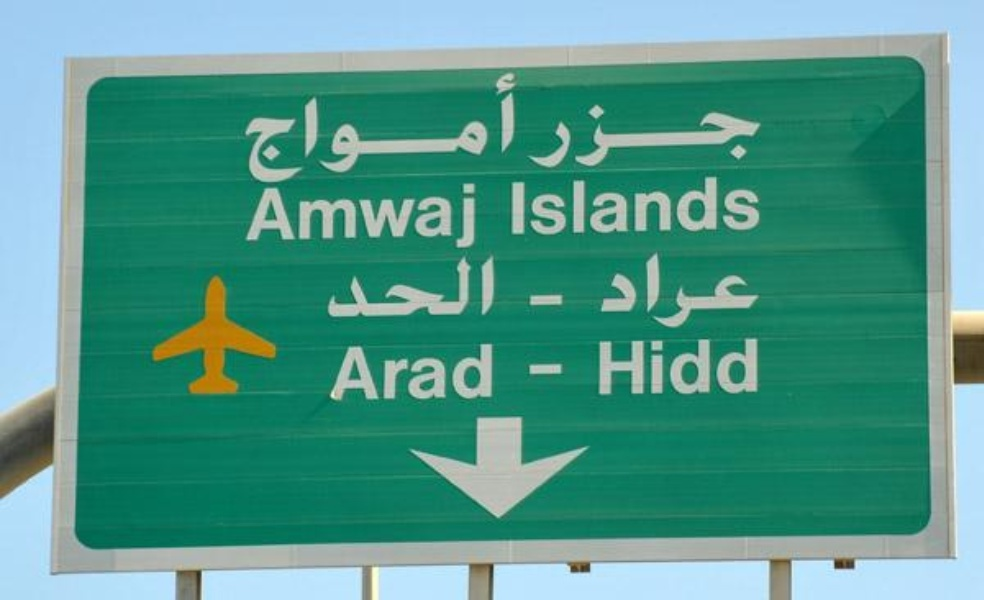text: (257, 71, 272, 186), (273, 71, 288, 186), (289, 71, 304, 186), (305, 71, 320, 186), (321, 71, 336, 186), (337, 71, 352, 186), (353, 71, 368, 186), (369, 71, 384, 186), (385, 71, 400, 186), (401, 71, 416, 186), (417, 71, 432, 186), (433, 71, 448, 186), (449, 71, 464, 186), (465, 71, 480, 186), (481, 71, 496, 186), (497, 71, 512, 186), (245, 71, 256, 186), (609, 250, 624, 332), (625, 250, 640, 332), (641, 250, 656, 332), (657, 250, 672, 332), (673, 250, 688, 332), (689, 250, 704, 332), (705, 250, 720, 332), (721, 250, 736, 332), (737, 250, 752, 332), (545, 97, 560, 171), (561, 97, 576, 171), (577, 97, 592, 171), (593, 97, 608, 171), (609, 97, 624, 171), (625, 97, 640, 171), (641, 97, 656, 171), (657, 97, 672, 171), (673, 97, 688, 171), (689, 97, 704, 171), (705, 97, 720, 171), (721, 97, 736, 171), (737, 97, 752, 171), (481, 255, 497, 323), (513, 71, 522, 186), (481, 341, 497, 405), (257, 182, 272, 250), (273, 182, 288, 250), (289, 182, 304, 250), (305, 182, 320, 250), (321, 182, 336, 250), (337, 182, 352, 250), (353, 182, 368, 250), (369, 182, 384, 250), (385, 182, 400, 250), (401, 182, 416, 250), (417, 182, 432, 250), (433, 182, 448, 250), (449, 182, 464, 250), (337, 255, 352, 323), (353, 255, 368, 323), (369, 255, 384, 323), (385, 255, 400, 323), (401, 255, 416, 323), (417, 255, 432, 323), (433, 255, 448, 323), (449, 255, 464, 323), (465, 255, 480, 323), (513, 174, 528, 238), (529, 174, 544, 238), (545, 174, 560, 238), (561, 174, 576, 238), (577, 174, 592, 238), (593, 174, 608, 238), (609, 174, 624, 238), (625, 174, 640, 238), (641, 174, 656, 238), (657, 174, 672, 238), (673, 174, 688, 238), (689, 174, 704, 238), (705, 174, 720, 238), (721, 174, 736, 238), (737, 174, 752, 238), (337, 341, 352, 405), (353, 341, 368, 405), (369, 341, 384, 405), (385, 341, 400, 405), (401, 341, 416, 405), (417, 341, 432, 405), (433, 341, 448, 405), (449, 341, 464, 405), (465, 341, 480, 405), (609, 337, 624, 399), (625, 337, 640, 399), (641, 337, 656, 399), (657, 337, 672, 399), (673, 337, 688, 399), (689, 337, 704, 399), (705, 337, 720, 399), (721, 337, 736, 399), (737, 337, 752, 399), (532, 97, 544, 171), (465, 182, 478, 250), (245, 182, 256, 250), (753, 97, 763, 171), (599, 250, 608, 332), (597, 337, 608, 399), (753, 250, 761, 332), (753, 337, 761, 399), (329, 255, 336, 323), (753, 174, 760, 238), (329, 341, 336, 405), (507, 174, 512, 238), (529, 358, 544, 379), (545, 358, 560, 379), (529, 292, 544, 309), (545, 292, 560, 309), (561, 292, 570, 309), (561, 358, 566, 379), (524, 358, 528, 379), (525, 292, 528, 309)
